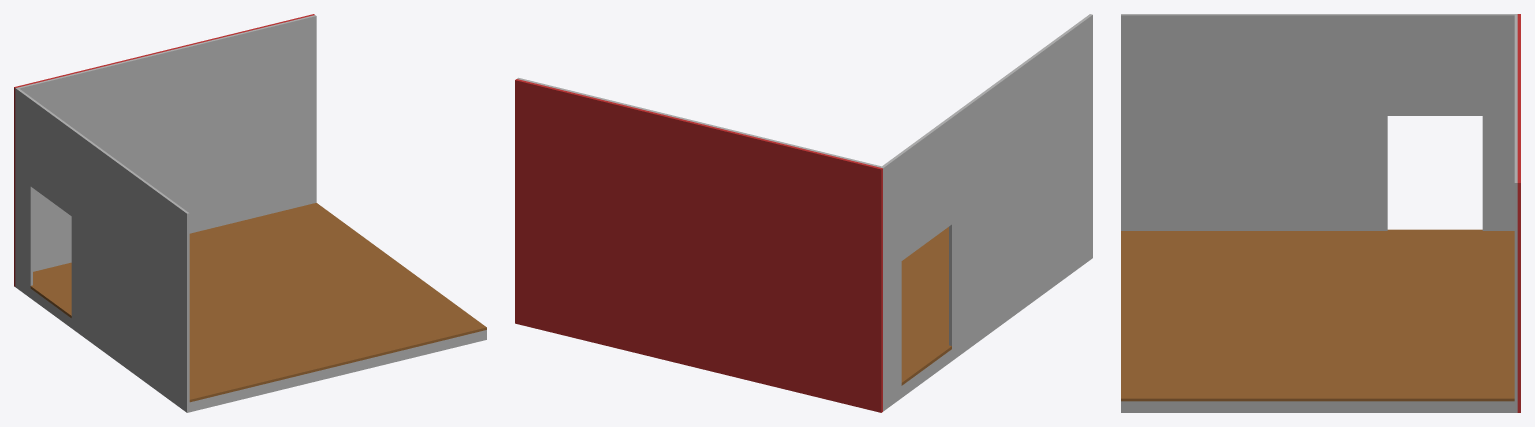
The model's file is 4x2 first-4.obj.
3 renders of one model, left to right at view 1: azimuth 30°, elevation 25°; view 2: azimuth 150°, elevation 25°; view 3: azimuth 270°, elevation 25°, orthographic. The views are drawn at different scales.
Parts seen in each view (by area): view 1: 4x2 first-4; view 2: 4x2 first-4; view 3: 4x2 first-4.
Part boxes in pixels (bbox=[...]): 4x2 first-4: bbox=[14, 14, 486, 412]; 4x2 first-4: bbox=[515, 14, 1092, 412]; 4x2 first-4: bbox=[1121, 14, 1520, 412].
Size of the model in its own units: 126 by 80 by 126.
Materials: 1 (1 with a texture image).
